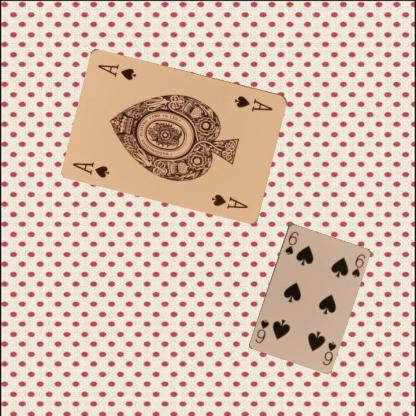6s: (282, 229, 300, 256), (320, 339, 338, 366)
As: (232, 93, 274, 112), (70, 160, 111, 179)
